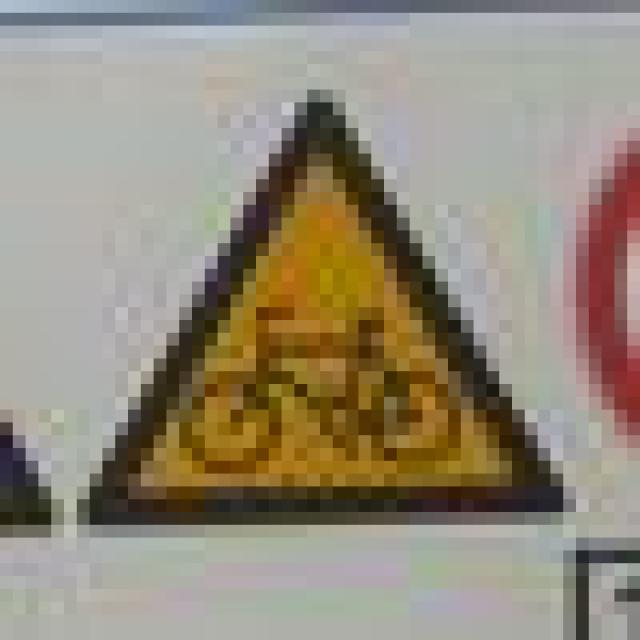cycle_crossing: (64, 90, 563, 512)
